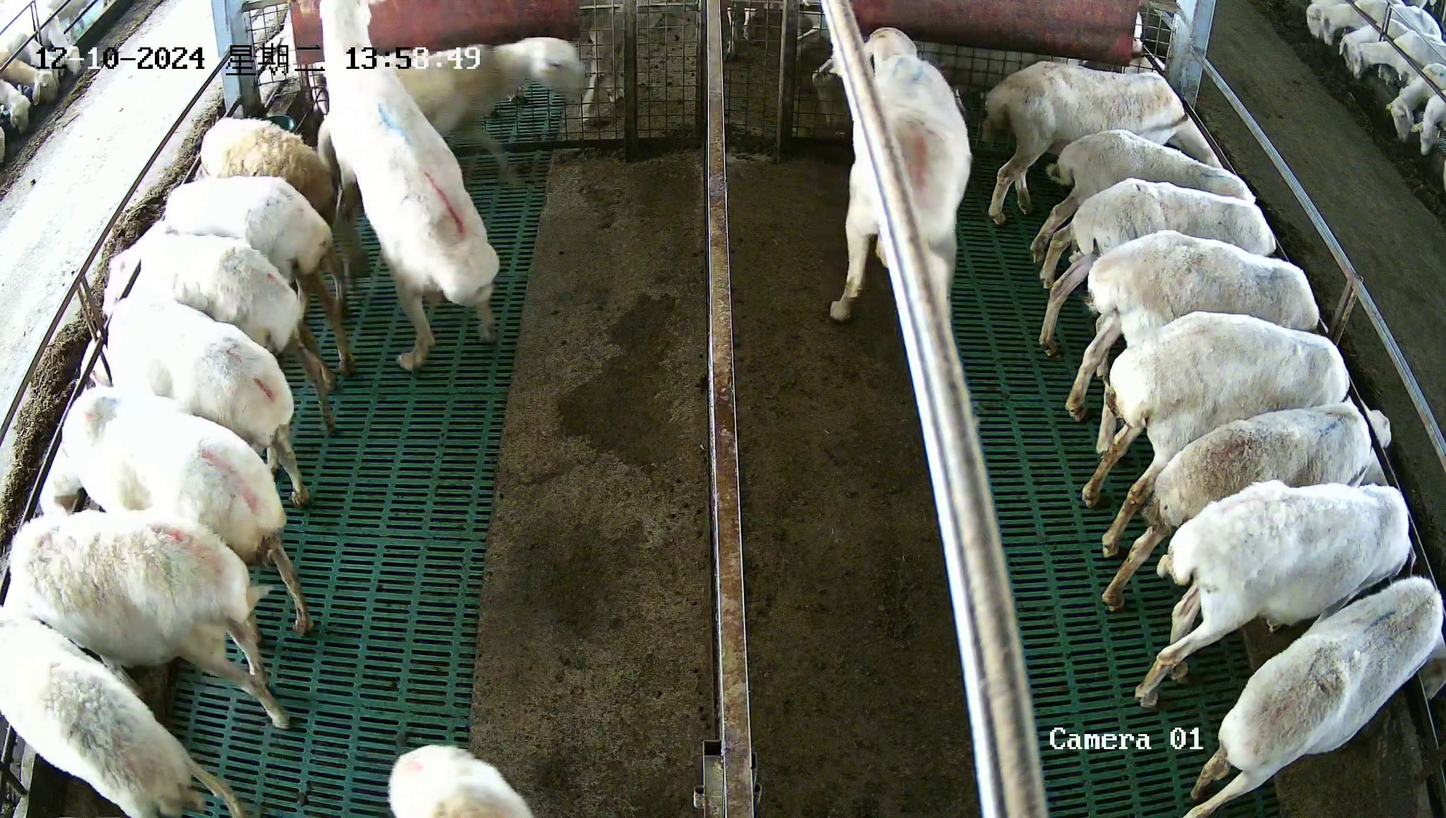Nmounting: (311, 1, 505, 372)
